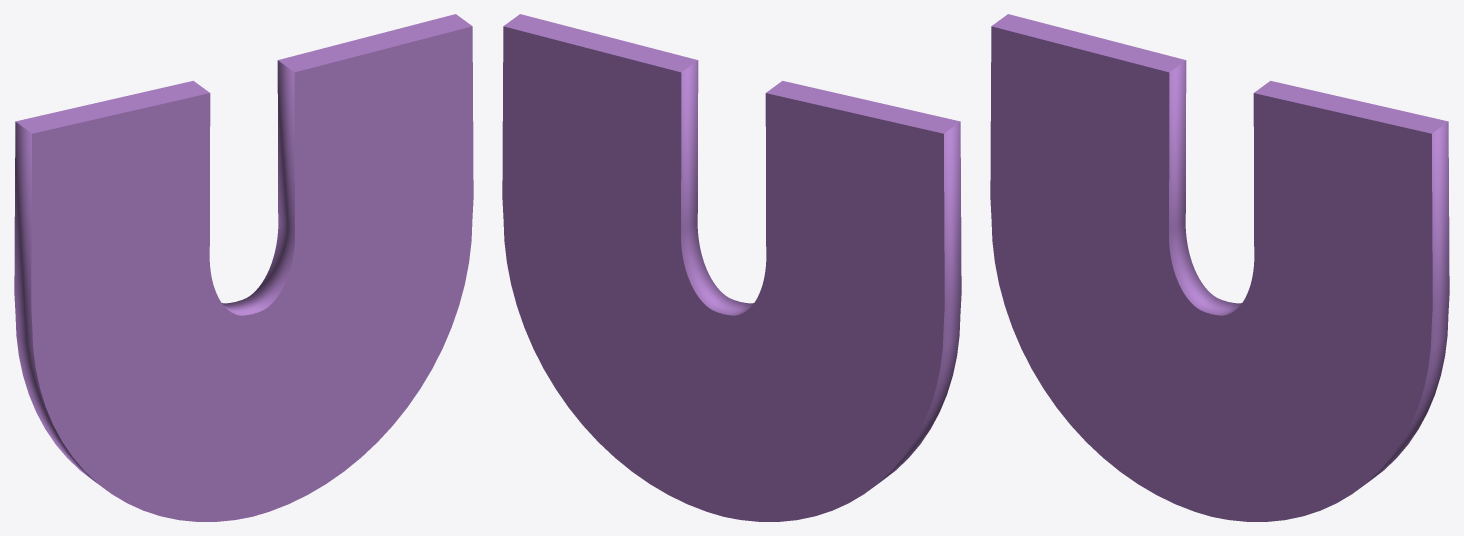
File: LuckyC_HorseShoe.fbx
3 renders of one model, left to right at view 1: azimuth 30°, elevation 25°; view 2: azimuth 150°, elevation 25°; view 3: azimuth 330°, elevation 25°, orthographic.
Visible parts, largest first — view 1: LuckyC_HorseShoe; view 2: LuckyC_HorseShoe; view 3: LuckyC_HorseShoe.
Part boxes in pixels (x1,y1,x2,y2): LuckyC_HorseShoe: (14, 14, 473, 521); LuckyC_HorseShoe: (502, 14, 961, 521); LuckyC_HorseShoe: (990, 14, 1449, 521).
Size of the model in its own units: 2.11 by 1.99 by 0.1385.
